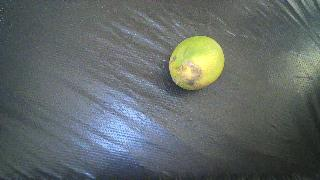DESECHO: (169, 36, 225, 90)
